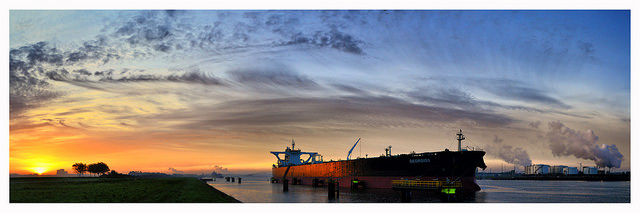tanker: (275, 144, 495, 190)
